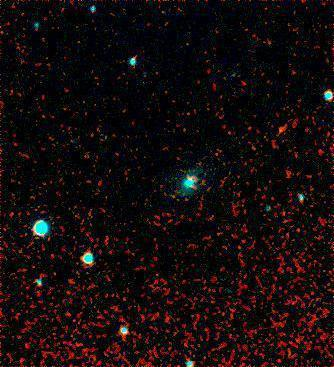star: (267, 114, 297, 144)
